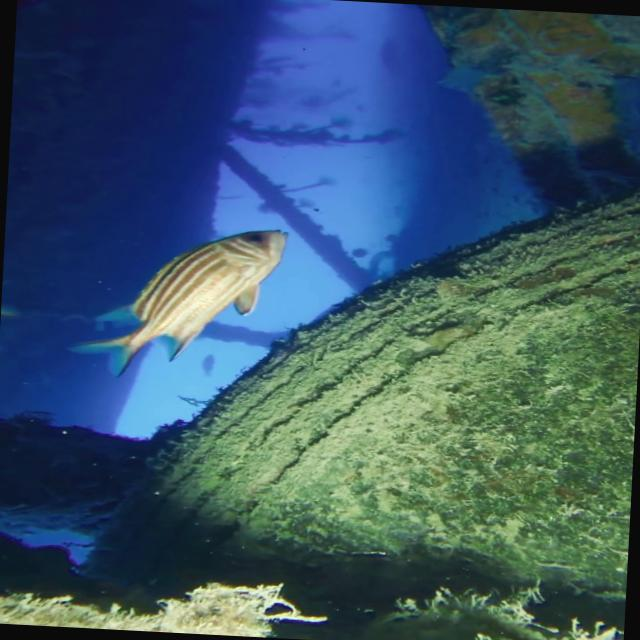Asker Baligi: (62, 218, 290, 387)
